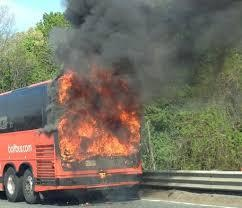fire: (54, 62, 144, 160)
